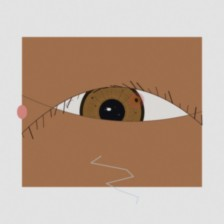foreign_body_visible: (72, 128, 95, 146)
